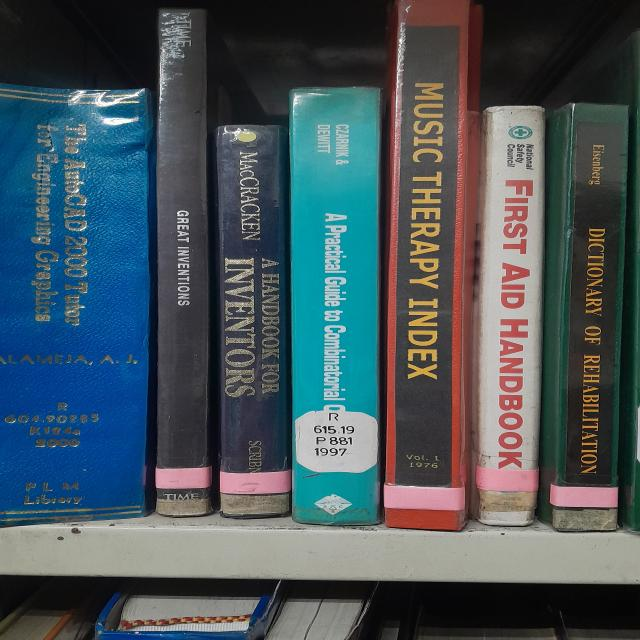book: (0, 84, 155, 527), (384, 0, 469, 529), (289, 88, 380, 525), (537, 103, 628, 530), (472, 106, 545, 526), (215, 125, 290, 517), (156, 9, 213, 517)
